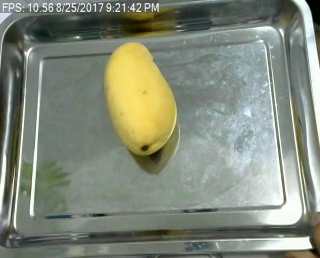Mango: (102, 40, 182, 158)
